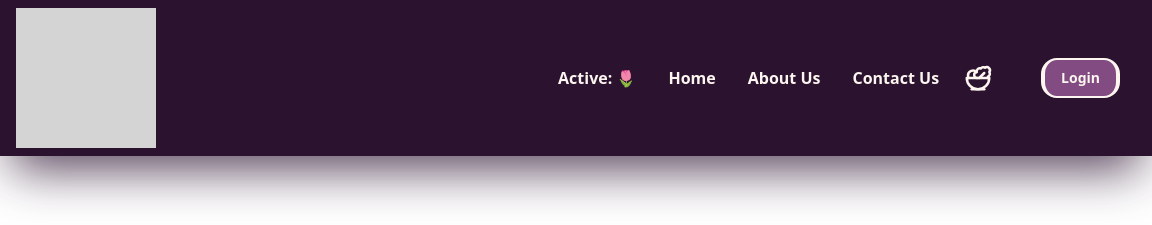
Test: Header Component Test Cases by Amisha › Should change Login to Logout on button click
Click the button "Login".
click(1081, 78)  # box [1041,58,1120,98]
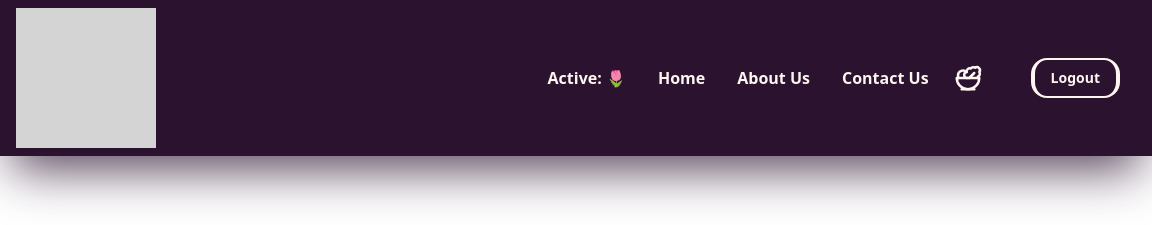
expect the button "Logout" is shown: met, box [1031,58,1120,98]
